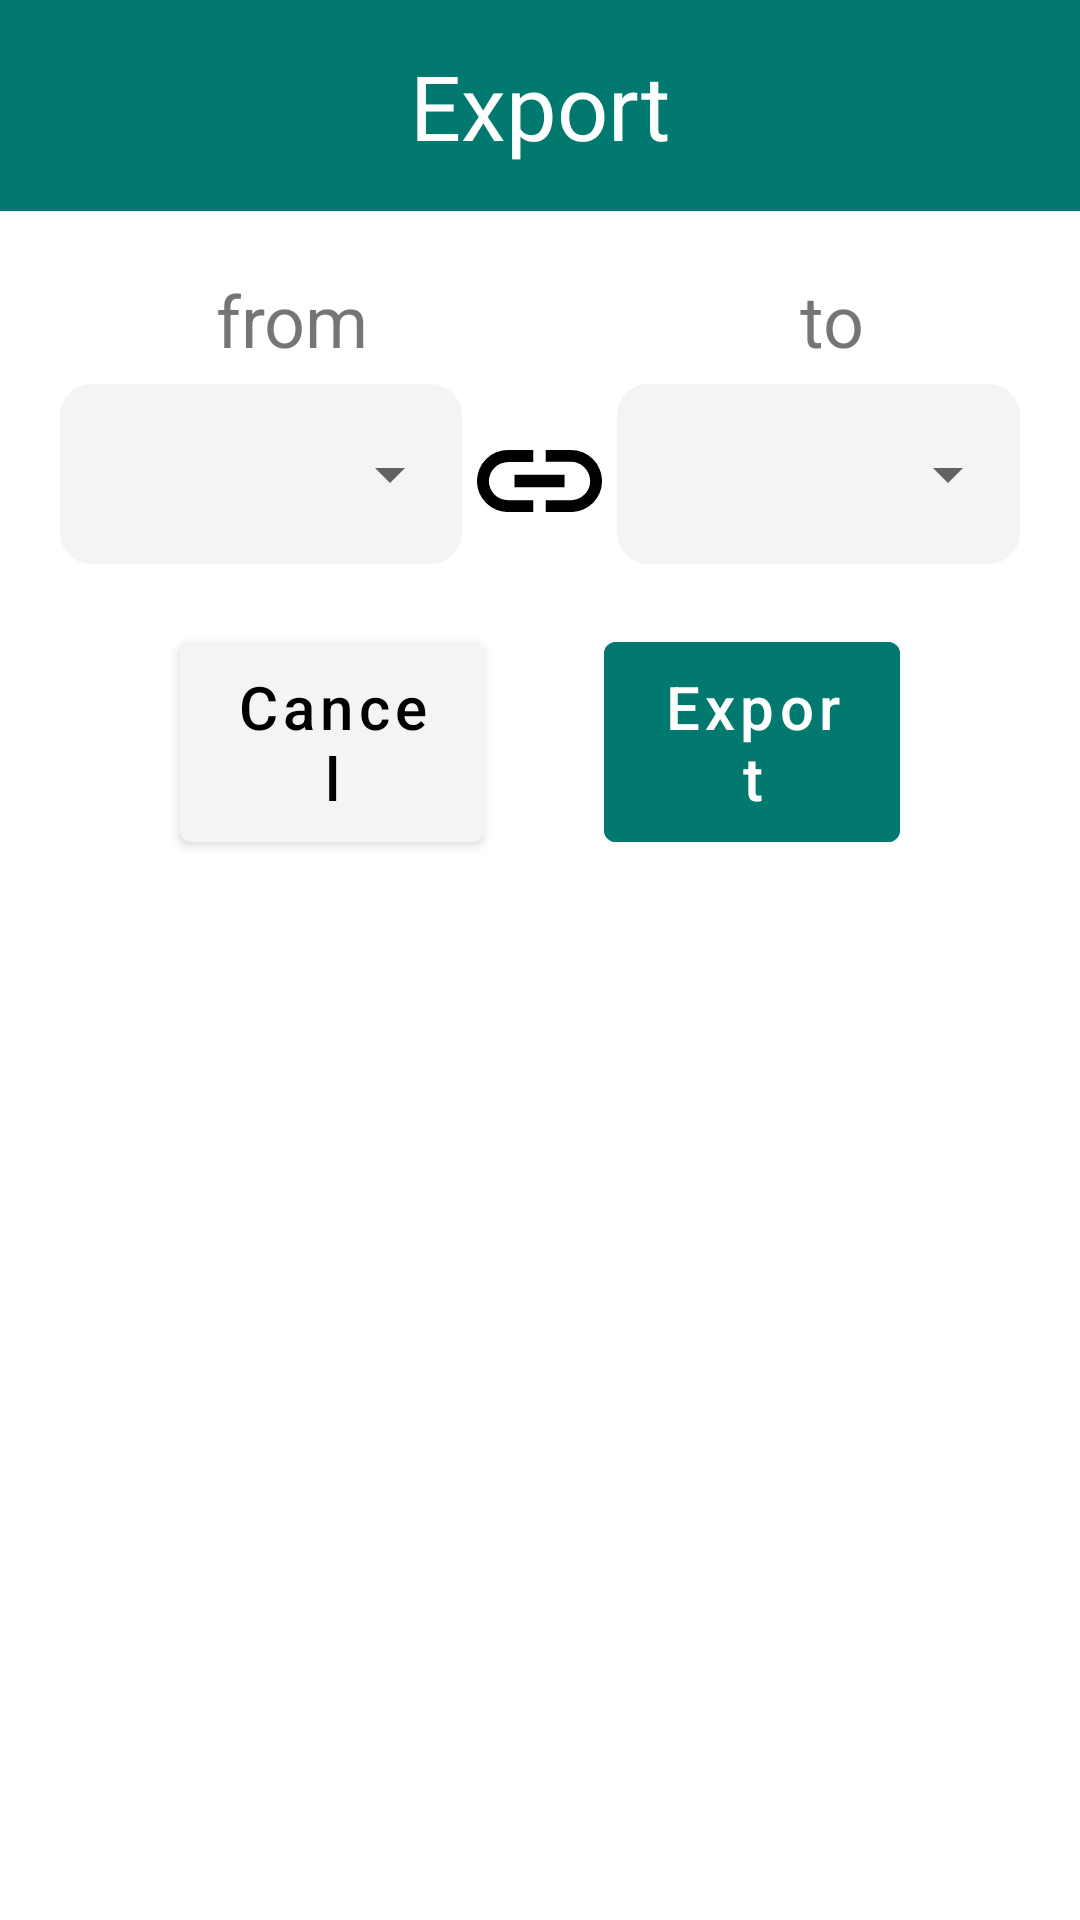

Where to tap for icons on this 1080px x 1920px app screen, as (x,y):
link: (539,481)
